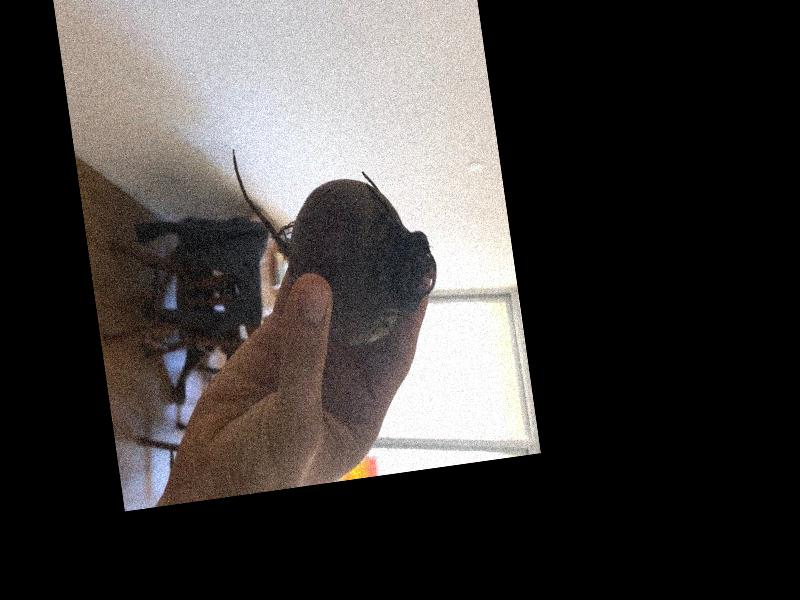Beet: (231, 123, 445, 358)
